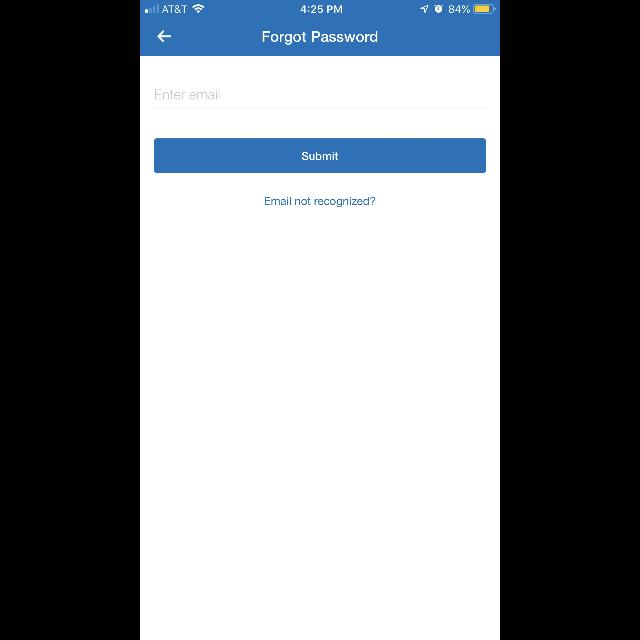icon: (158, 31, 172, 43)
input: (153, 90, 487, 108)
text: (262, 31, 378, 45), (265, 196, 375, 208), (154, 90, 220, 100)
textbutton: (154, 138, 486, 174)
uppertaskbar: (140, 0, 500, 14)
